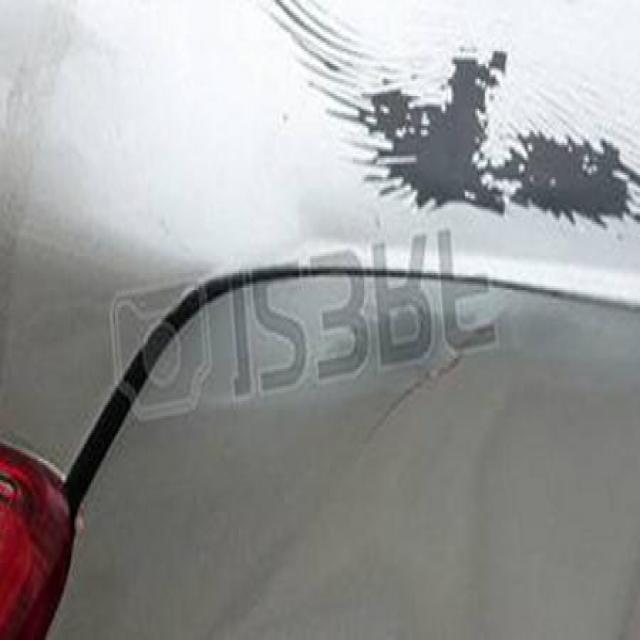scratch: (256, 5, 639, 248)
